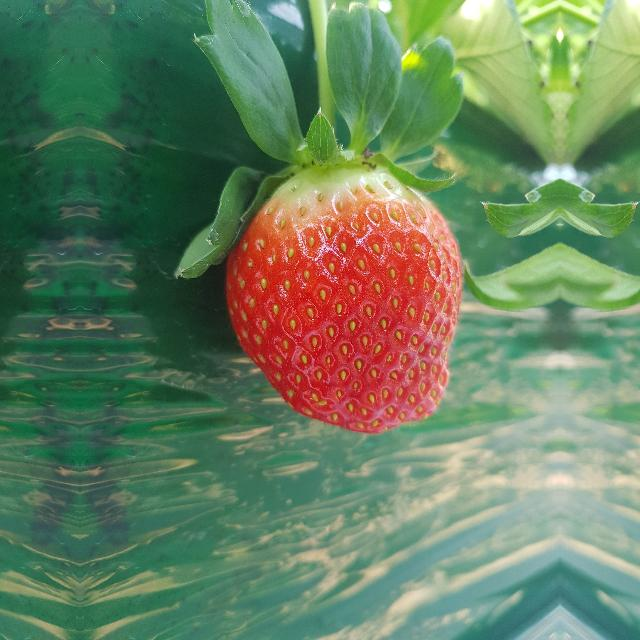Health_100: (224, 161, 463, 437)
